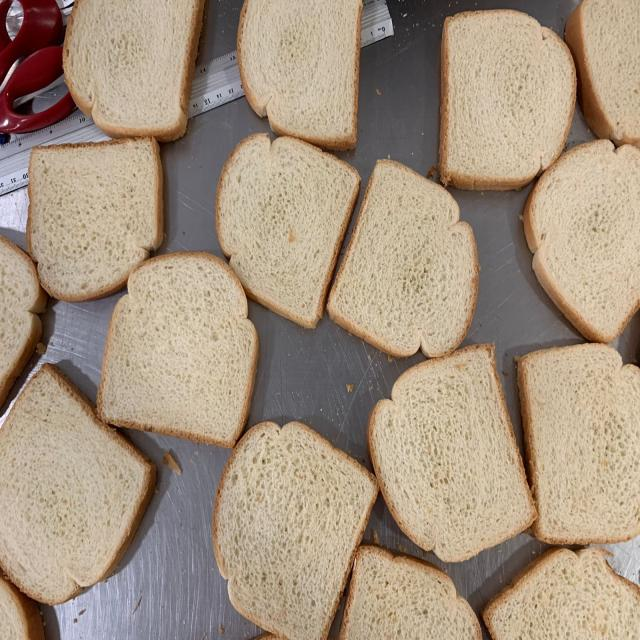pan: (0, 361, 160, 603), (367, 344, 539, 563), (212, 421, 380, 640), (98, 250, 260, 449), (327, 159, 479, 358), (216, 134, 361, 329), (515, 343, 640, 545), (441, 10, 577, 191), (28, 136, 164, 299)
